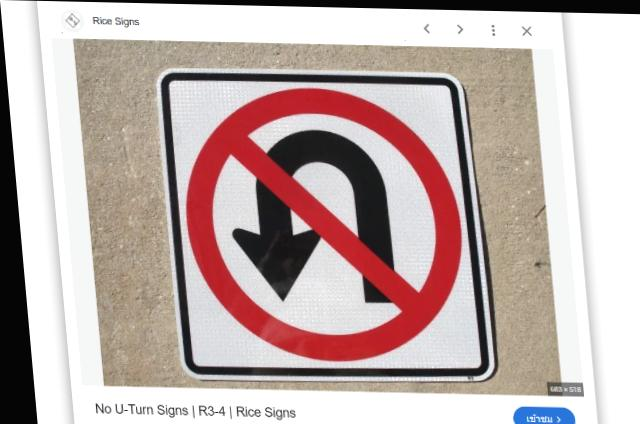not_u_turn_left: (153, 73, 479, 372)
